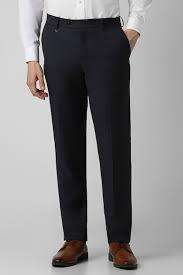trouser: (38, 11, 140, 247)
